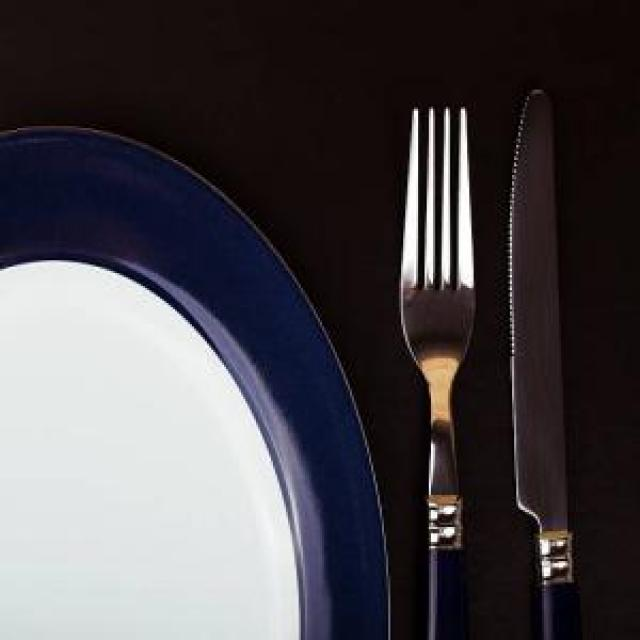knife: (508, 81, 586, 638)
